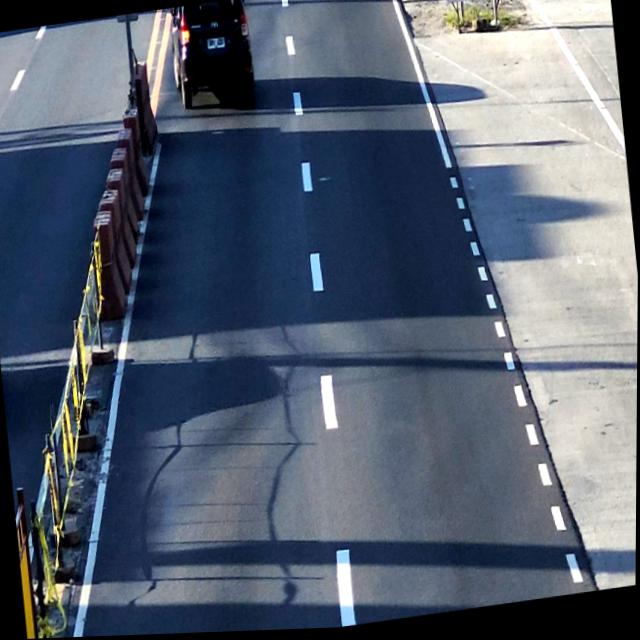Car: (165, 0, 258, 111)
License-Plate: (205, 33, 225, 54)
